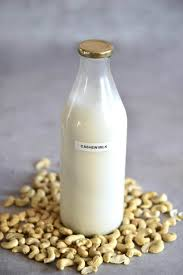milk: (53, 36, 135, 238)
